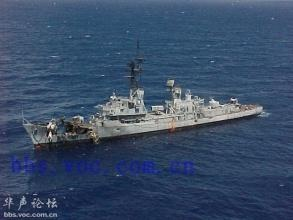warship: (21, 72, 268, 150)
